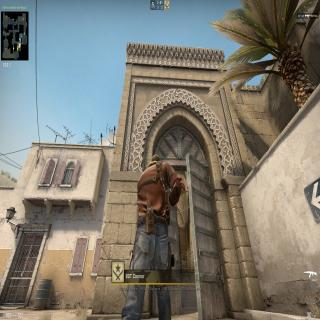T-Head: (150, 150, 162, 167)
